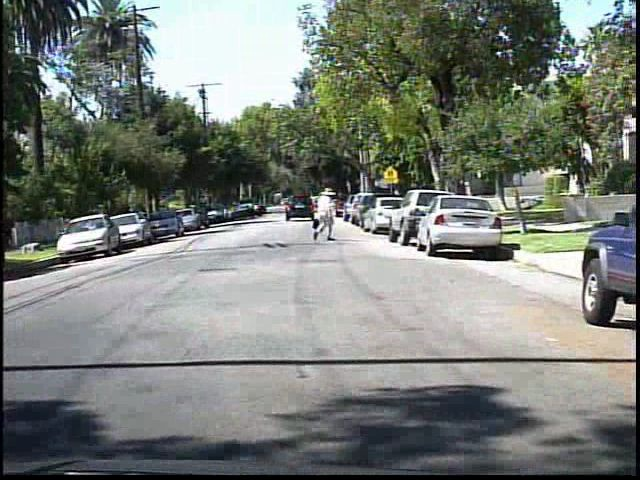person: (309, 184, 341, 244)
